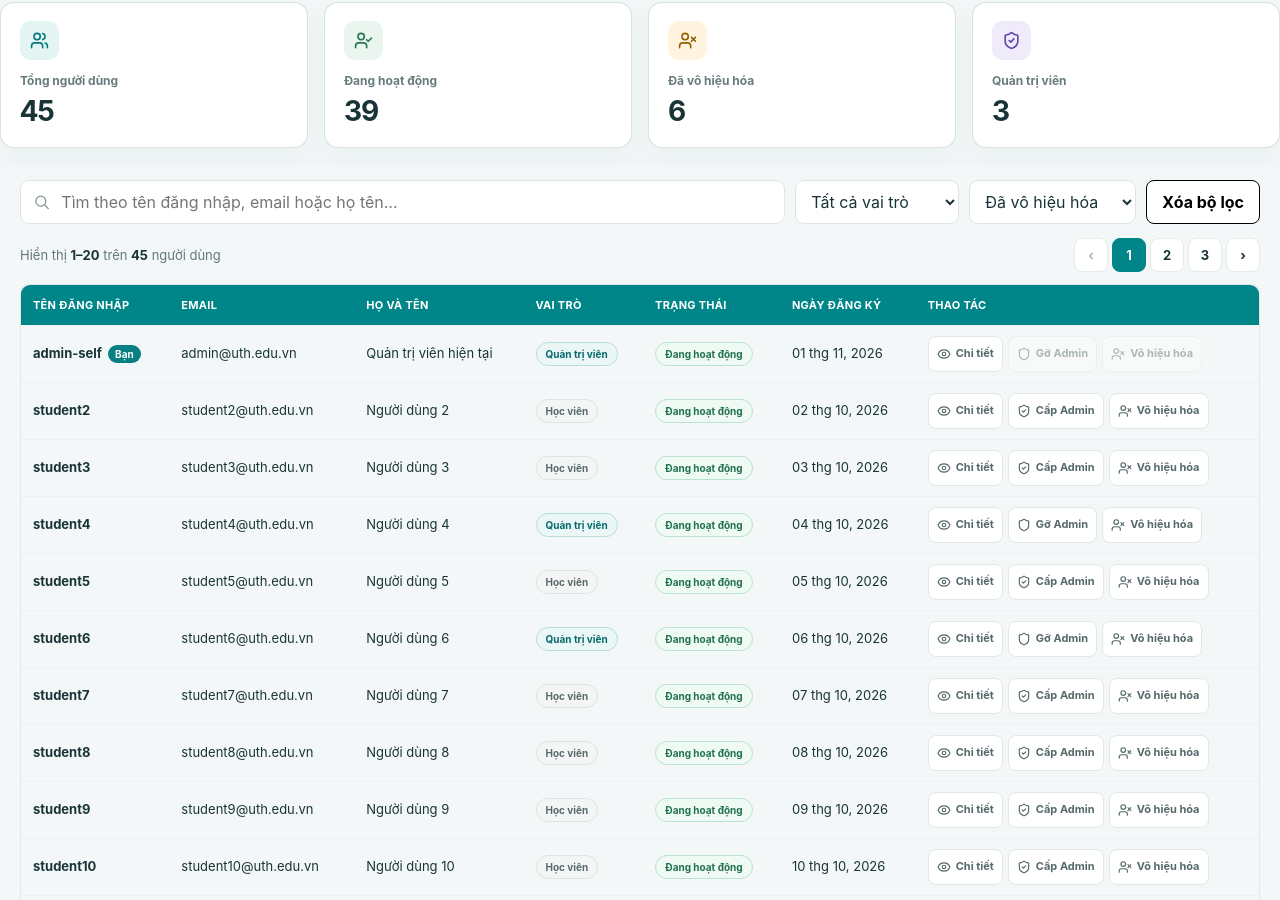
Scenario: AdminUsersPage › keeps the existing status-change payload behind explicit confirmation
Later steps or results of the test are not shown.
Select "Đã vô hiệu hóa" in the dropdown named "Lọc theo trạng thái tài khoản" at (1053, 202), box [969,180,1136,224]
Select "Đã vô hiệu hóa" in the dropdown named "Lọc theo trạng thái tài khoản" at (1053, 202), box [969,180,1136,224]
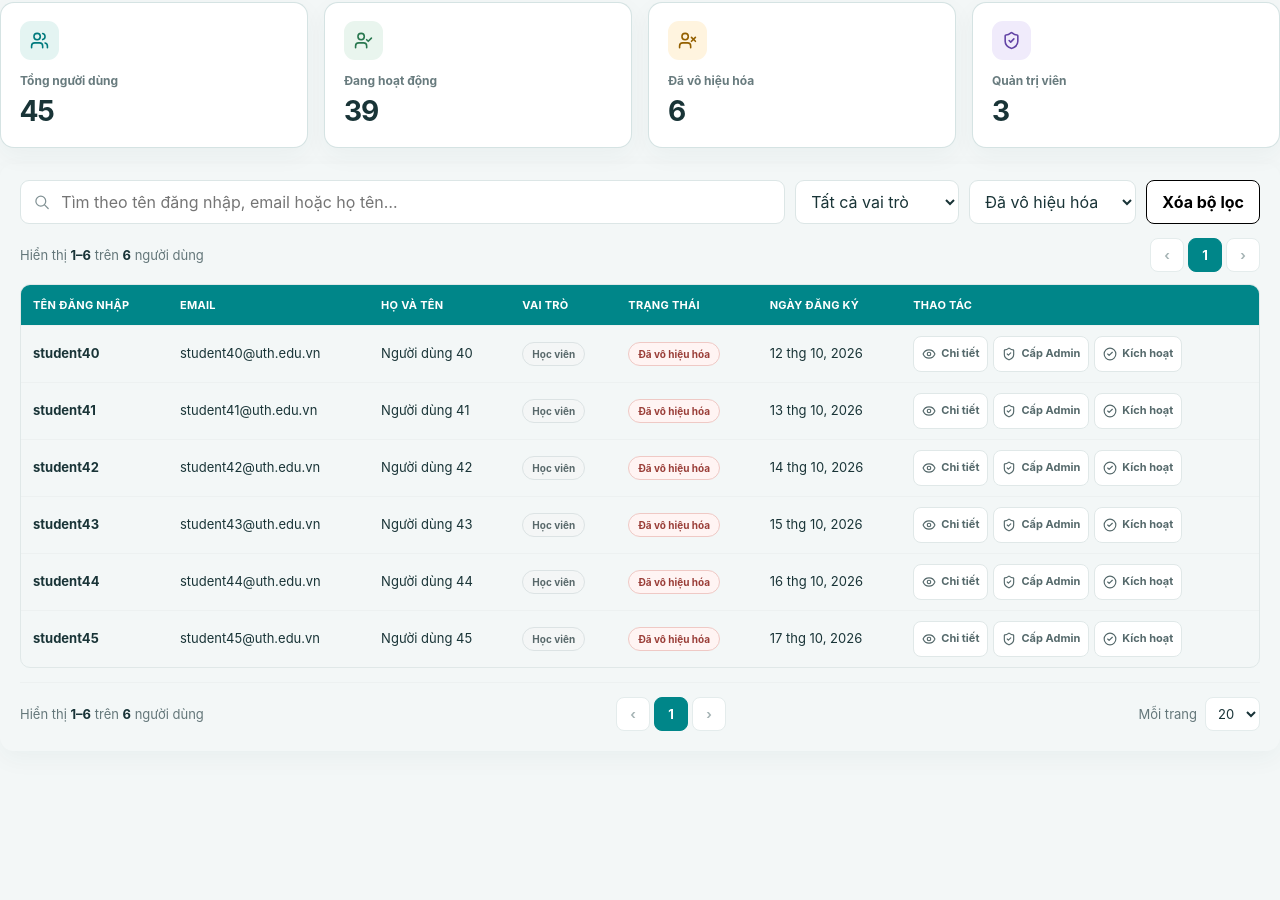
Click the button "Kích hoạt" in the row of "student40@uth.edu.vn" at (1138, 354), box [1094,336,1182,372]
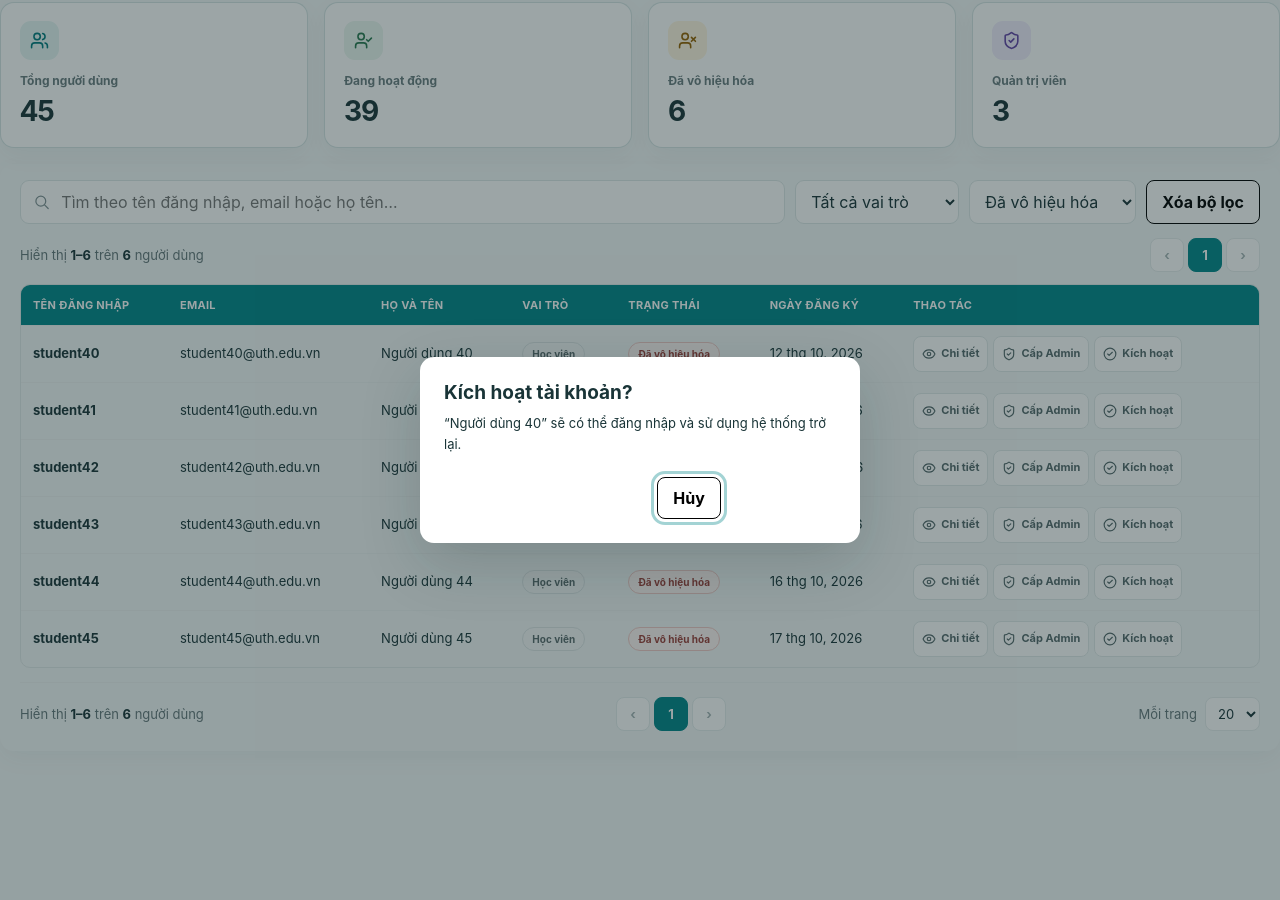
Expected: the dialog shows "Kích hoạt tài khoản?", [444,381,632,404]
